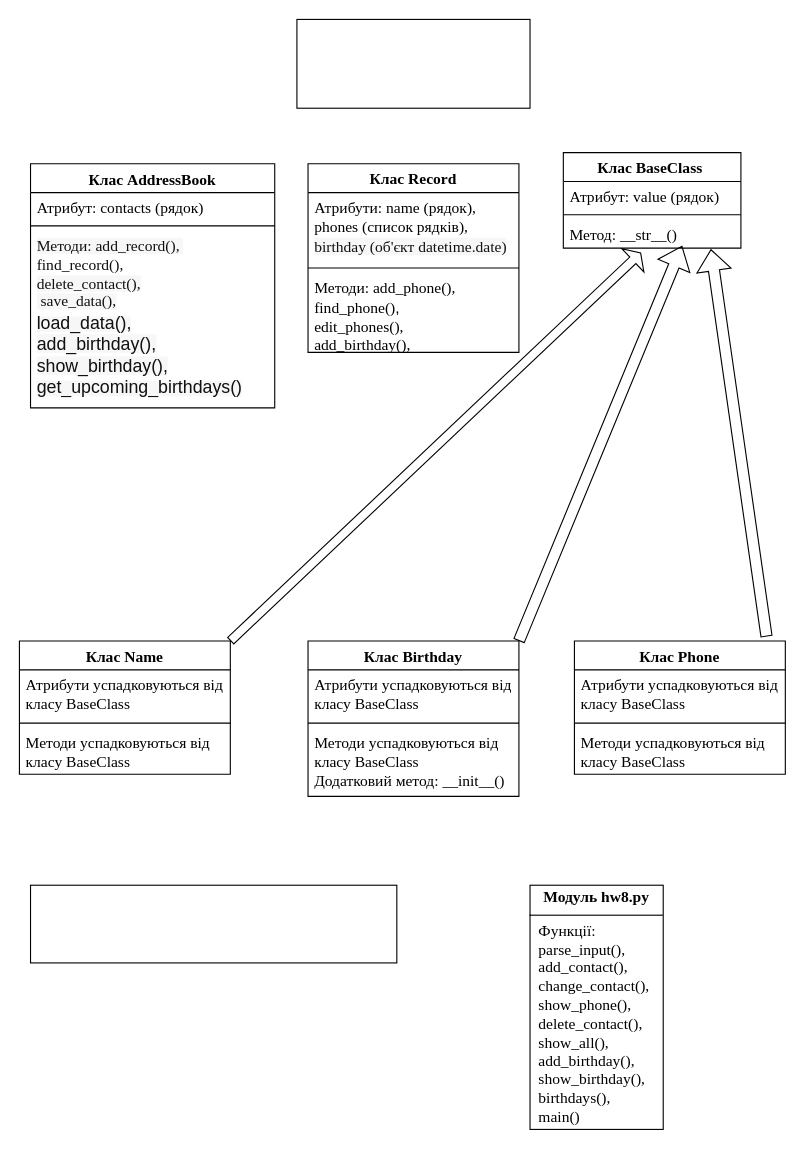
Some shapes in this 805 by 1149 pixel diagram are drawn without their labels. The centre of each missing label's shape, as x and y in pixels:
"Діаграма класів" goes at (413,63).
"Модуль gup.py Функція: get_upcoming_birthdays(users: список словників)" goes at (213,923).
